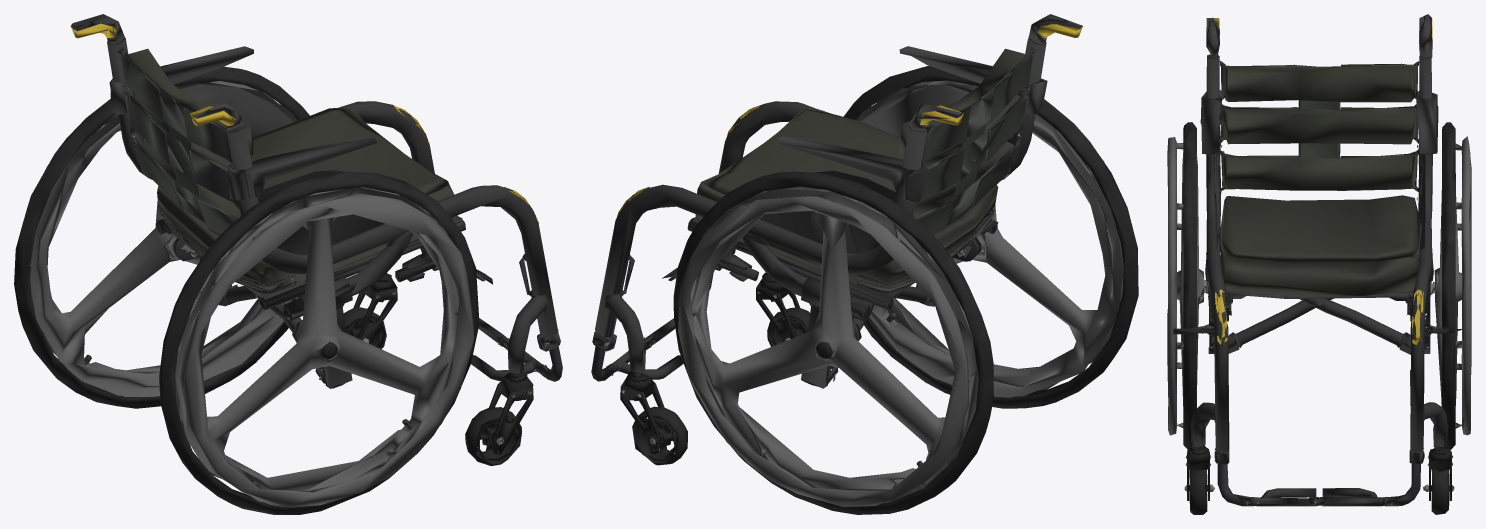
Rendered from wheelchair.glb.
The picture shows the model from 3 angles, left to right: view 1: azimuth 30°, elevation 25°; view 2: azimuth 150°, elevation 25°; view 3: azimuth 270°, elevation 25°; orthographic projection. The views are drawn at different scales.
Parts seen in each view (by area): view 1: body; view 2: body; view 3: body.
Boxes of the visible parts, box(x1,y1,x2,y2) form: body: box(14, 14, 562, 514); body: box(591, 14, 1138, 514); body: box(1167, 14, 1471, 514).
Bounding box in the file's own units: 0.7775 × 0.7338 × 0.5416.
Materials: 10 (5 with a texture image).
